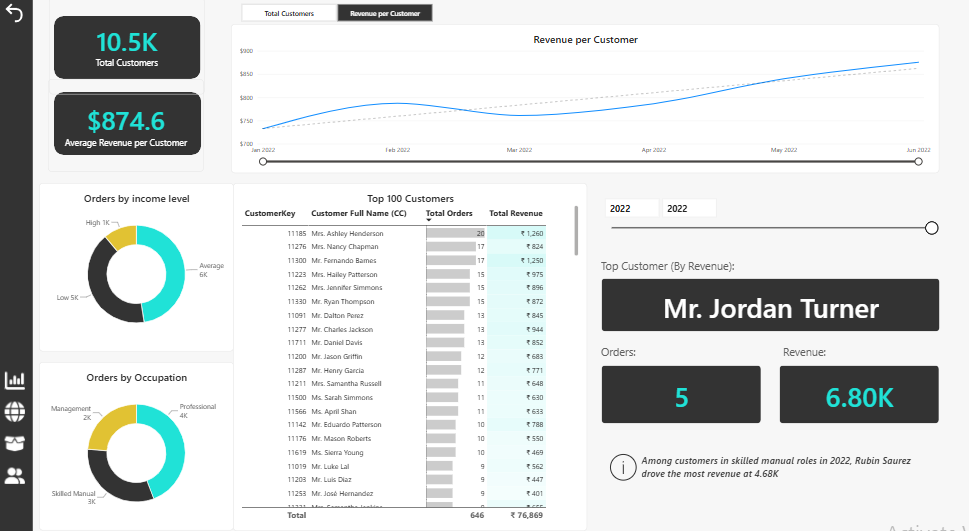

Layout of this report page (visuals, bound fields, positions):
{"tool":"powerbi","page":{"name":"Customer Detail","canvas":[1920,1080],"ordinal":3},"visuals":[{"type":"shape","box":[0,0,72.5,1080],"z":0},{"type":"actionButton","box":[0,795,73.3,61.7],"z":0,"group":"g1"},{"type":"shape","box":[114,196,290,124],"z":1000},{"type":"actionButton","box":[0,856.6,73.3,61.7],"z":1000,"group":"g1"},{"type":"shape","box":[113.4,45,288.9,124.1],"z":2000},{"type":"actionButton","box":[0,918.3,73.3,65],"z":2000,"group":"g1"},{"type":"card","fields":{"Values":["Measure Table.Average Revenue per Customer"]},"box":[102.9,170,307.1,182.9],"z":3000},{"type":"actionButton","box":[0,733.3,73.3,61.7],"z":3000,"group":"g1"},{"type":"card","fields":{"Values":["Measure Table.Total Customers"]},"box":[104.7,10,306.7,190],"z":4000},{"type":"lineChart","fields":{"Category":["Calendar Lookup.Date Hierarchy.Start of Year","Calendar Lookup.Date Hierarchy.Start of Month","Calendar Lookup.Date Hierarchy.Start of Week","Calendar Lookup.Date Hierarchy.Date"],"Y":["Measure Table.Average Revenue per Customer"]},"box":[464,62,1396,294],"z":5000},{"type":"donutChart","title":"Orders by income level","fields":{"Category":["Customer Lookup.Income Level"],"Y":["Measure Table.Total Orders"]},"box":[84,374,384,332],"z":6000},{"type":"donutChart","title":"Orders by Occupation","fields":{"Category":["Customer Lookup.Occupation"],"Y":["Measure Table.Total Orders"]},"box":[84,728,384,332],"z":7000},{"type":"tableEx","title":"Top 100 Customers","fields":{"Values":["Customer Lookup.CustomerKey","Customer Lookup.Customer Full Name (CC)","Measure Table.Total Orders","Measure Table.Total Revenue"]},"box":[468,374,698,686],"z":8000},{"type":"cardVisual","fields":{"Data":["Customer Lookup.Full Name (Customer Detail)"]},"box":[1191.7,562.6,668,106],"z":9000},{"type":"cardVisual","fields":{"Data":["Measure Table.Total Orders (Customer Detail)"]},"box":[1191.7,732.6,316,116],"z":10000},{"type":"cardVisual","fields":{"Data":["Measure Table.Total Revenue (Customer Detail)"]},"box":[1543.7,732.6,316,116],"z":11000},{"type":"textbox","box":[1191.7,522.6,416,78],"z":12000},{"type":"textbox","box":[1192.3,691.8,157.7,78.8],"z":13000},{"type":"textbox","box":[1551.7,692.6,150,78],"z":14000},{"type":"slicer","fields":{"Values":["Calendar Lookup.Year"]},"box":[1192.3,400.1,668.1,90.7],"z":15000},{"type":"actionButton","box":[1192.2,894.7,667.8,79.2],"z":16000},{"type":"actionButton","box":[0,0,72.9,78.8],"z":17000},{"type":"group","id":"g1","title":"Navigation button","box":[0,733.3,73.3,250],"z":18000},{"type":"slicer","fields":{"Values":["Customer Metric Selection.Customer Metric Selection"]},"box":[464,20,416,38],"z":18501}]}

Visuals, with their boxes on the page's 1920x1080 design canvas (x1, y1, x2, y2). These are canvas units, not pixel positions in the 969x531 screenshot, which may show the page scaled, cropped or inside an application window:
shape: x1=0, y1=0, x2=72, y2=1080
actionButton: x1=0, y1=795, x2=73, y2=857
shape: x1=114, y1=196, x2=404, y2=320
actionButton: x1=0, y1=857, x2=73, y2=918
shape: x1=113, y1=45, x2=402, y2=169
actionButton: x1=0, y1=918, x2=73, y2=983
card - Measure Table.Average Revenue per Customer: x1=103, y1=170, x2=410, y2=353
actionButton: x1=0, y1=733, x2=73, y2=795
card - Measure Table.Total Customers: x1=105, y1=10, x2=411, y2=200
lineChart - Calendar Lookup.Date Hierarchy.Start of Year x Calendar Lookup.Date Hierarchy.Start of Month: x1=464, y1=62, x2=1860, y2=356
"Orders by income level" donutChart: x1=84, y1=374, x2=468, y2=706
"Orders by Occupation" donutChart: x1=84, y1=728, x2=468, y2=1060
"Top 100 Customers" tableEx: x1=468, y1=374, x2=1166, y2=1060
cardVisual - Customer Lookup.Full Name (Customer Detail): x1=1192, y1=563, x2=1860, y2=669
cardVisual - Measure Table.Total Orders (Customer Detail): x1=1192, y1=733, x2=1508, y2=849
cardVisual - Measure Table.Total Revenue (Customer Detail): x1=1544, y1=733, x2=1860, y2=849
textbox: x1=1192, y1=523, x2=1608, y2=601
textbox: x1=1192, y1=692, x2=1350, y2=771
textbox: x1=1552, y1=693, x2=1702, y2=771
slicer - Calendar Lookup.Year: x1=1192, y1=400, x2=1860, y2=491
actionButton: x1=1192, y1=895, x2=1860, y2=974
actionButton: x1=0, y1=0, x2=73, y2=79
"Navigation button" group: x1=0, y1=733, x2=73, y2=983
slicer - Customer Metric Selection.Customer Metric Selection: x1=464, y1=20, x2=880, y2=58
